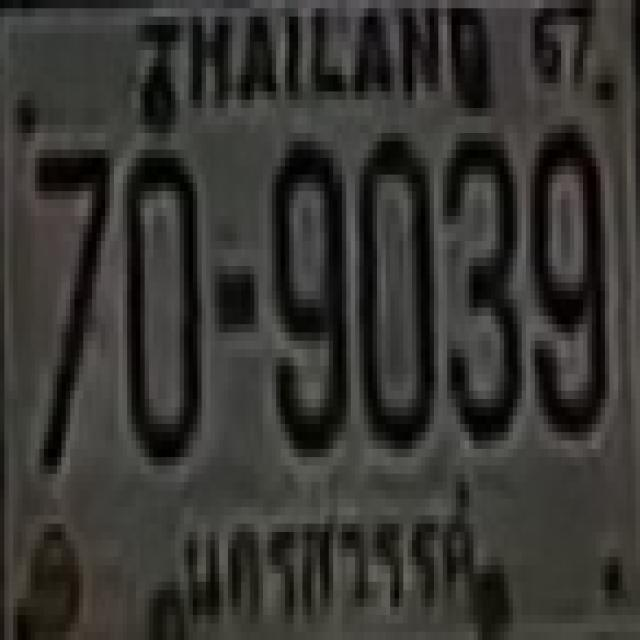0: (355, 124, 430, 440), (123, 141, 197, 457)
3: (443, 129, 517, 436)
7: (31, 142, 105, 466)
9: (526, 121, 605, 428), (267, 133, 342, 449)
KSN: (174, 479, 487, 636)
